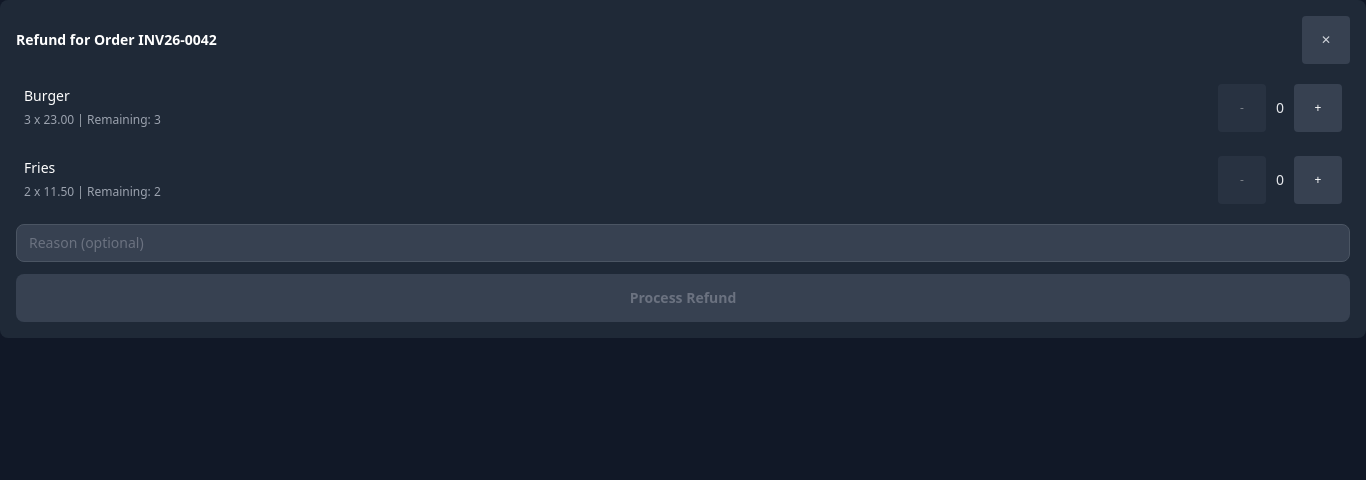
Scenario: RefundPanel › shows refund total when items selected
Check: the heading "Refund for Order INV26-0042" is shown, box x1=16 y1=30 x2=217 y2=50
Check: the text "Refund Total" is not shown
# Select 1 Burger
What coordinates should you click on to do the following:
click the button "+" in the row of "23.00"
I would click on:
 (1318, 108)
Its box is x1=1294 y1=84 x2=1342 y2=132.
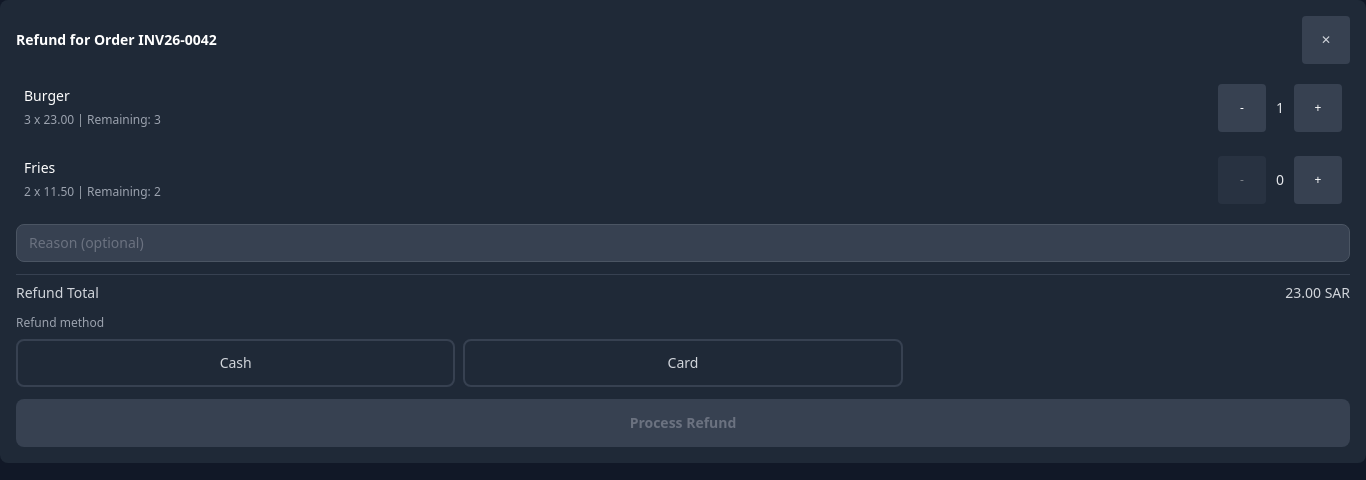
Check: the text "Refund Total" is shown, box x1=16 y1=283 x2=99 y2=303
Check: the text "23.00 SAR" is shown, box x1=1285 y1=283 x2=1350 y2=303
